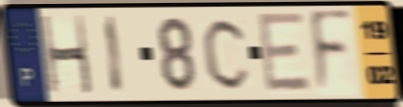8: (155, 15, 198, 93)
C: (200, 15, 253, 93)
E: (255, 10, 314, 97)
F: (307, 6, 355, 99)
H: (38, 13, 96, 97)
I: (103, 12, 127, 97)
